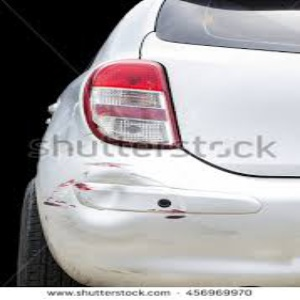bumper_scratch: (39, 163, 220, 284)
